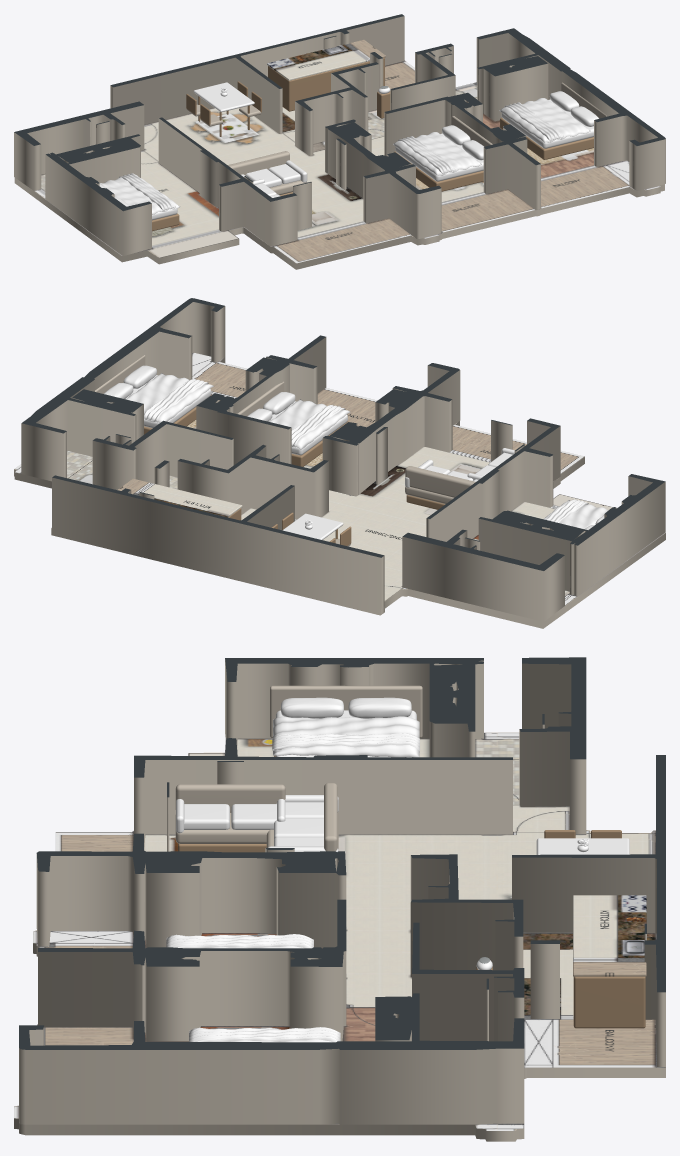
The picture shows the model from 3 angles, top to bottom: view 1: azimuth 30°, elevation 25°; view 2: azimuth 150°, elevation 25°; view 3: azimuth 270°, elevation 25°; orthographic projection. The views are drawn at different scales.
Parts seen in each view (by area): view 1: Partition walls, Apartment floor, Stone worktop, Draped bed linen, Kitchen cabinets, Draped bed linen.002, Marble dining top, Draped bed linen.004, Walnut upholstered base, Walnut upholstered base.001, Sofa back, Piped mattress (+8 smaller); view 2: Partition walls, Apartment floor, Stone worktop, Draped bed linen, Draped bed linen.002, Sofa back, Marble dining top, Draped bed linen.001, Draped bed linen.004, Draped bed linen.003, Tailored pillow; view 3: Partition walls, Apartment floor, Stone worktop, Draped bed linen.004, Kitchen cabinets, Upholstered headboard.002, Sofa back.001, Draped bed linen.001, Draped bed linen.005, Draped bed linen.003, Marble dining top, Upholstered sofa frame.001 (+7 smaller).
Boxes of the visible parts, x1=… form: Partition walls: x1=14, y1=14, x2=665, y2=255; Apartment floor: x1=14, y1=60, x2=664, y2=269; Stone worktop: x1=267, y1=39, x2=385, y2=80; Draped bed linen: x1=499, y1=98, x2=590, y2=142; Kitchen cabinets: x1=268, y1=57, x2=384, y2=111; Draped bed linen.002: x1=393, y1=132, x2=481, y2=175; Marble dining top: x1=193, y1=82, x2=254, y2=112; Draped bed linen.004: x1=99, y1=174, x2=180, y2=214; Walnut upholstered base: x1=500, y1=117, x2=593, y2=159; Walnut upholstered base.001: x1=394, y1=151, x2=483, y2=191; Sofa back: x1=228, y1=151, x2=289, y2=175; Piped mattress: x1=501, y1=99, x2=593, y2=148; Partition walls: x1=21, y1=298, x2=665, y2=621; Apartment floor: x1=14, y1=352, x2=665, y2=628; Stone worktop: x1=117, y1=478, x2=242, y2=517; Draped bed linen: x1=126, y1=373, x2=213, y2=422; Draped bed linen.002: x1=269, y1=399, x2=350, y2=449; Sofa back: x1=405, y1=466, x2=475, y2=497; Marble dining top: x1=282, y1=513, x2=343, y2=539; Draped bed linen.001: x1=144, y1=379, x2=208, y2=422; Draped bed linen.004: x1=543, y1=500, x2=608, y2=528; Draped bed linen.003: x1=291, y1=405, x2=345, y2=447; Tailored pillow: x1=123, y1=365, x2=156, y2=388; Partition walls: x1=19, y1=657, x2=665, y2=1124; Apartment floor: x1=14, y1=732, x2=665, y2=1141; Stone worktop: x1=573, y1=895, x2=646, y2=976; Draped bed linen.004: x1=273, y1=716, x2=419, y2=757; Kitchen cabinets: x1=573, y1=976, x2=645, y2=1028; Upholstered headboard.002: x1=270, y1=685, x2=422, y2=738; Sofa back.001: x1=175, y1=784, x2=285, y2=812; Draped bed linen.001: x1=189, y1=1027, x2=340, y2=1042; Draped bed linen.005: x1=272, y1=733, x2=419, y2=751; Draped bed linen.003: x1=166, y1=934, x2=313, y2=948; Marble dining top: x1=536, y1=838, x2=629, y2=854; Upholstered sofa frame.001: x1=175, y1=812, x2=269, y2=843.
Size of the model in its own units: 13.02 by 1.3 by 9.
Materials: 10 (1 with a texture image).
